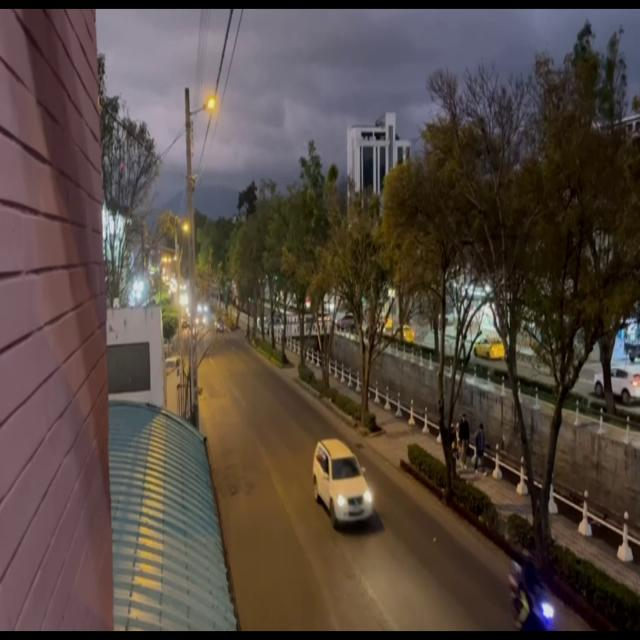MOTORCYCLE: (508, 583, 558, 636)
SUV: (314, 440, 374, 527)
